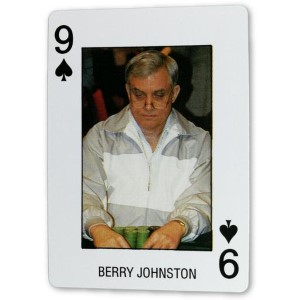NineOfSpades: (44, 2, 253, 295)
